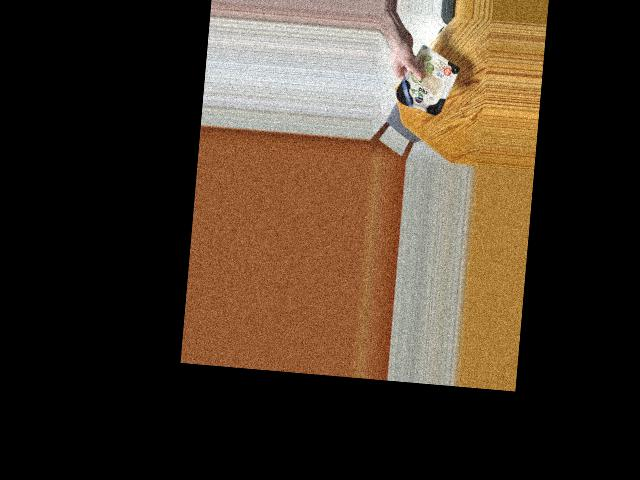cheese: (396, 54, 457, 120)
